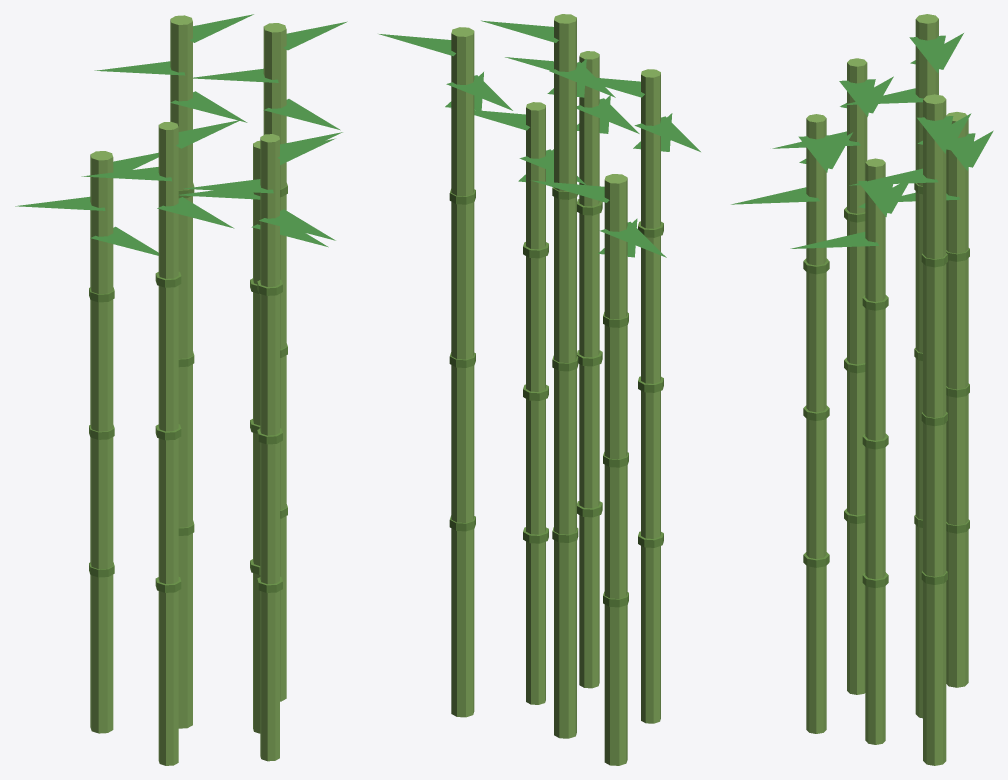
The model's file is bamboo_cluster.glb.
3 views of the same model, side by side, from view 1: azimuth 30°, elevation 25°; view 2: azimuth 150°, elevation 25°; view 3: azimuth 270°, elevation 25° (orthographic). The views are drawn at different scales.
Visible parts, largest first — view 1: BambooStem_5, BambooStem_0, BambooStem_4, BambooLeaves, BambooStem_1, BambooStem_3, BambooStem_2; view 2: BambooStem_1, BambooStem_3, BambooStem_5, BambooStem_0, BambooStem_4, BambooStem_2, BambooLeaves; view 3: BambooStem_3, BambooStem_4, BambooStem_5, BambooStem_2, BambooStem_0, BambooLeaves, BambooStem_1.
Boxes of the visible parts, <box> form: BambooStem_5: <box>90,151,113,733</box>; BambooStem_0: <box>158,121,178,765</box>; BambooStem_4: <box>260,134,279,761</box>; BambooLeaves: <box>15,14,347,255</box>; BambooStem_1: <box>170,15,192,728</box>; BambooStem_3: <box>263,23,286,701</box>; BambooStem_2: <box>253,140,260,733</box>; BambooStem_1: <box>554,14,576,738</box>; BambooStem_3: <box>451,27,474,717</box>; BambooStem_5: <box>604,174,627,765</box>; BambooStem_0: <box>641,69,660,723</box>; BambooStem_4: <box>579,51,599,688</box>; BambooStem_2: <box>526,102,545,704</box>; BambooLeaves: <box>379,20,700,257</box>; BambooStem_3: <box>923,94,946,765</box>; BambooStem_4: <box>806,114,826,733</box>; BambooStem_5: <box>946,112,968,687</box>; BambooStem_2: <box>865,158,885,744</box>; BambooStem_0: <box>847,58,867,694</box>; BambooLeaves: <box>731,33,993,248</box>; BambooStem_1: <box>915,14,938,718</box>.
Size of the model in its own units: 1.91 by 4.15 by 1.43.
